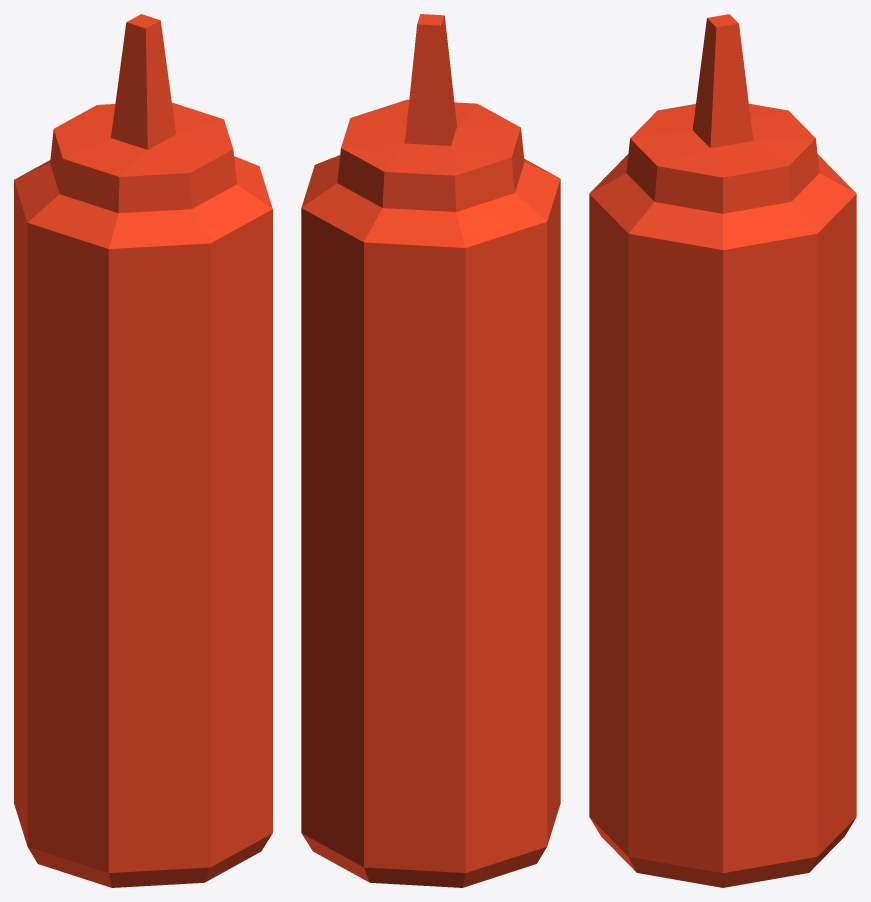
Rendered from SM_Ketchup_City.fbx.
The picture shows the model from 3 angles, left to right: view 1: azimuth 30°, elevation 25°; view 2: azimuth 150°, elevation 25°; view 3: azimuth 270°, elevation 25°; orthographic projection.
Visible parts, largest first — view 1: SM_Ketchup_City; view 2: SM_Ketchup_City; view 3: SM_Ketchup_City.
Part boxes in pixels (<box>): SM_Ketchup_City: <box>14,14,272,887</box>; SM_Ketchup_City: <box>301,14,560,887</box>; SM_Ketchup_City: <box>589,14,856,887</box>.
Size of the model in its own units: 0.0788 by 0.2651 by 0.0788.
